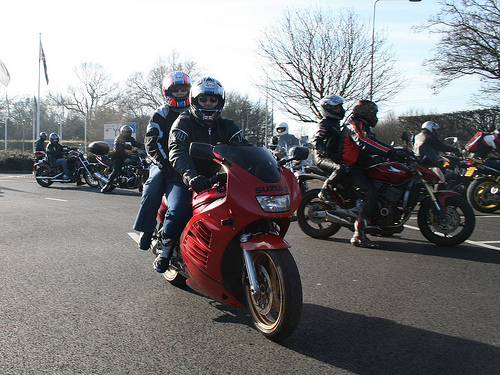helmet: (191, 82, 225, 118), (160, 75, 189, 99), (351, 101, 381, 122), (320, 96, 343, 116), (421, 120, 439, 131)
